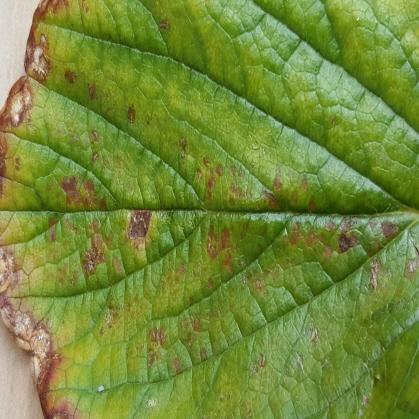Angular Leafspot: (0, 0, 418, 418)
